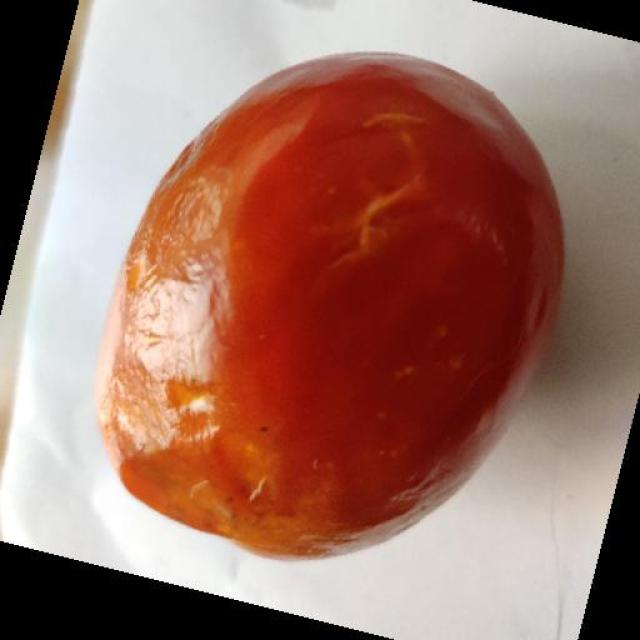Stale_tomato: (92, 62, 494, 536)
